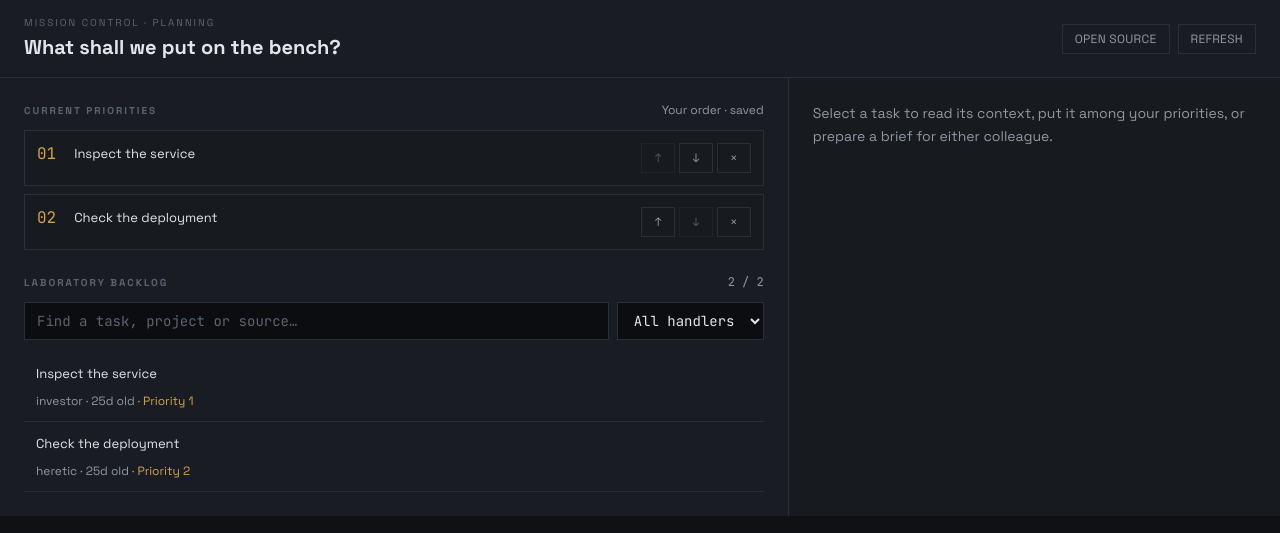
Test: Mission Control planning › reorders and removes persisted priorities, retaining the selected task across a refresh
Click the 1st button with class "backlog-row" at (96, 374), box 24,352 -> 764,422
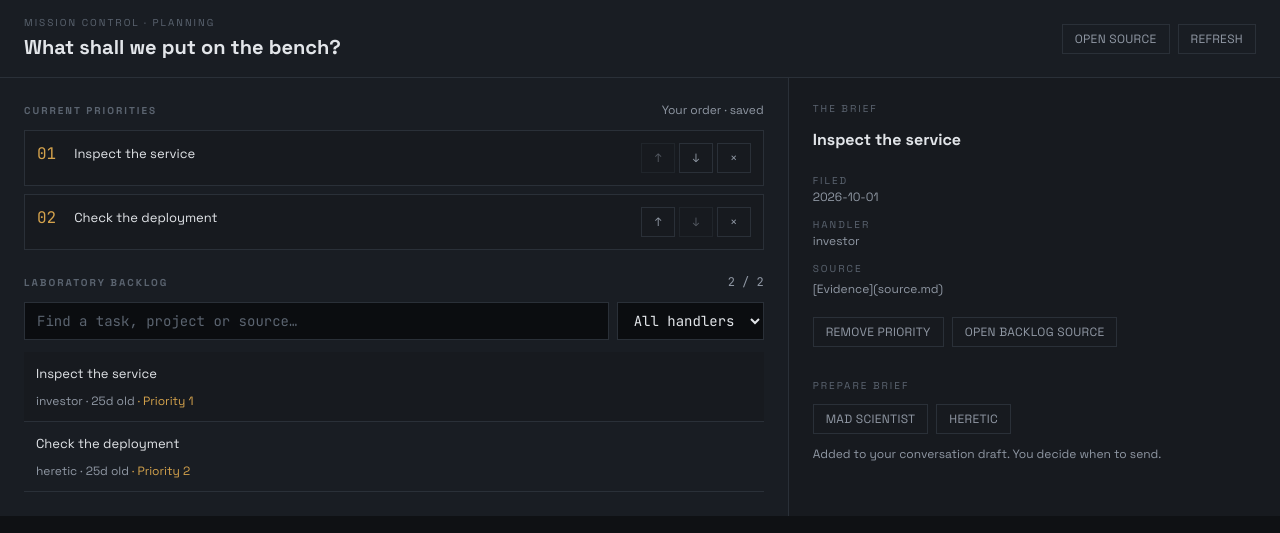
Expected: the button named "Move priority up" is disabled, 641,143 -> 675,173
Click the button named "Move priority down" at (696, 158), box 679,143 -> 713,173
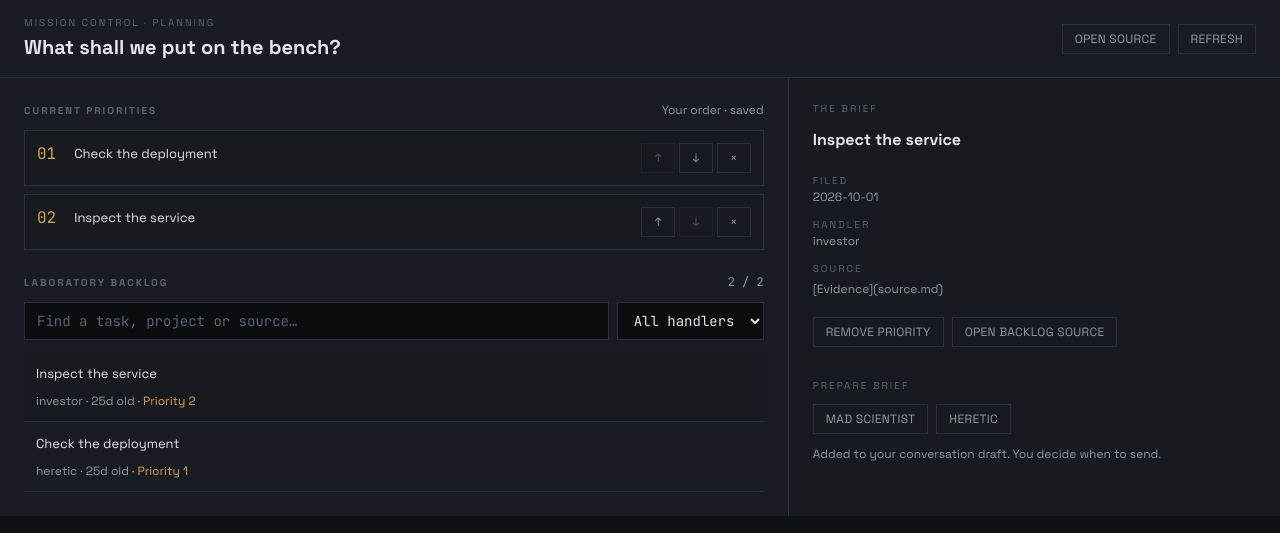
Click the button named "Move priority up" at (658, 222), box 641,207 -> 675,237
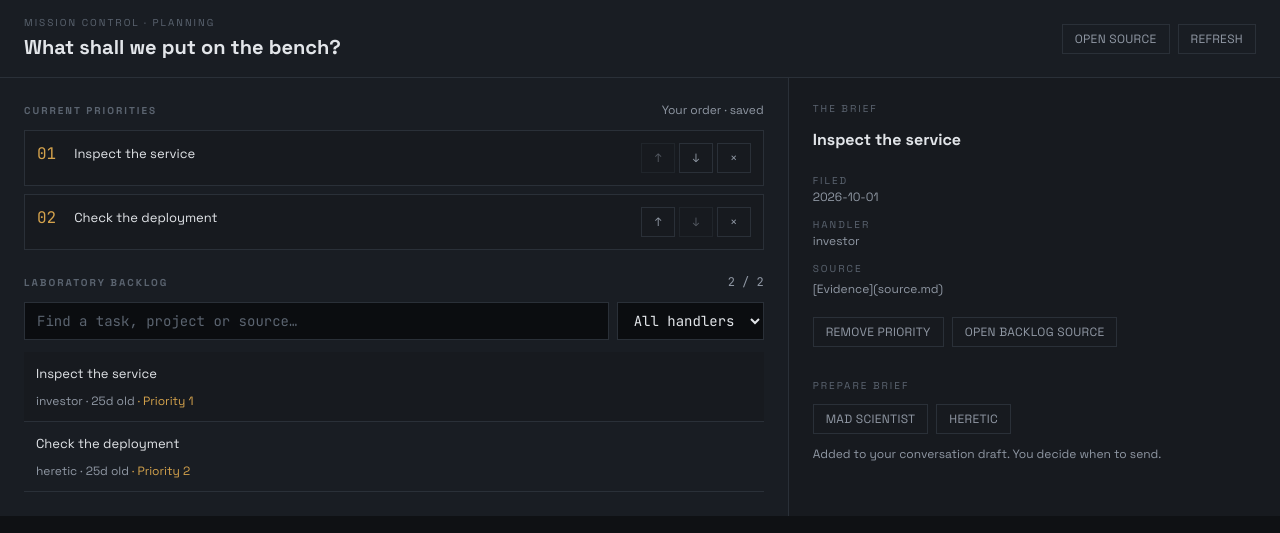
Click the button named "Remove priority" at (734, 158), box 717,143 -> 751,173
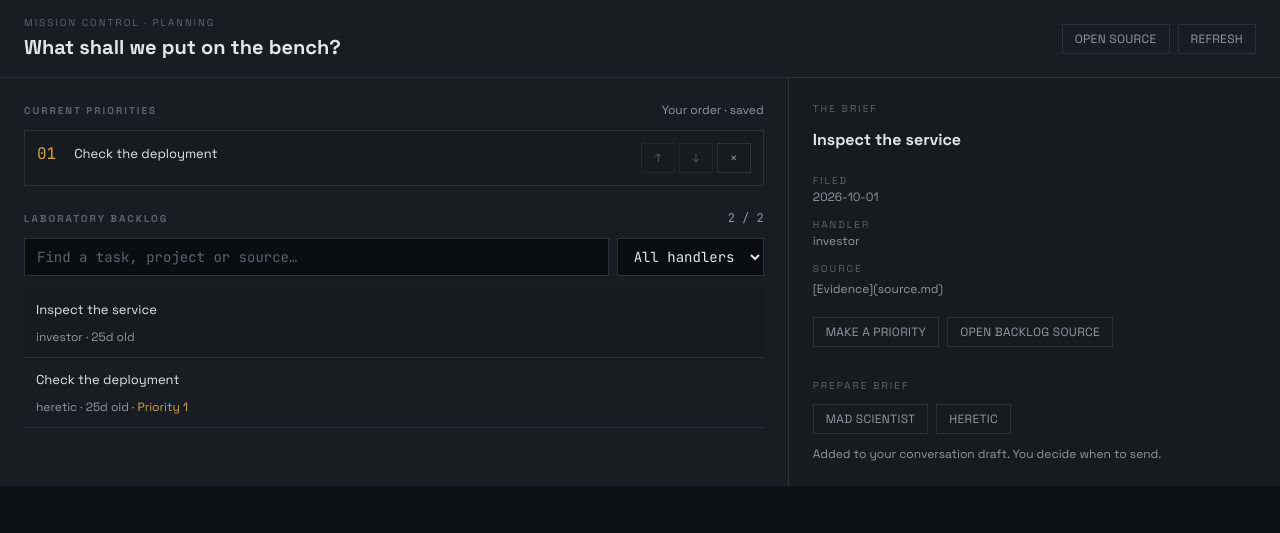
Select "heretic" in the dropdown named "Filter by handler" at (690, 257), box 617,238 -> 764,276
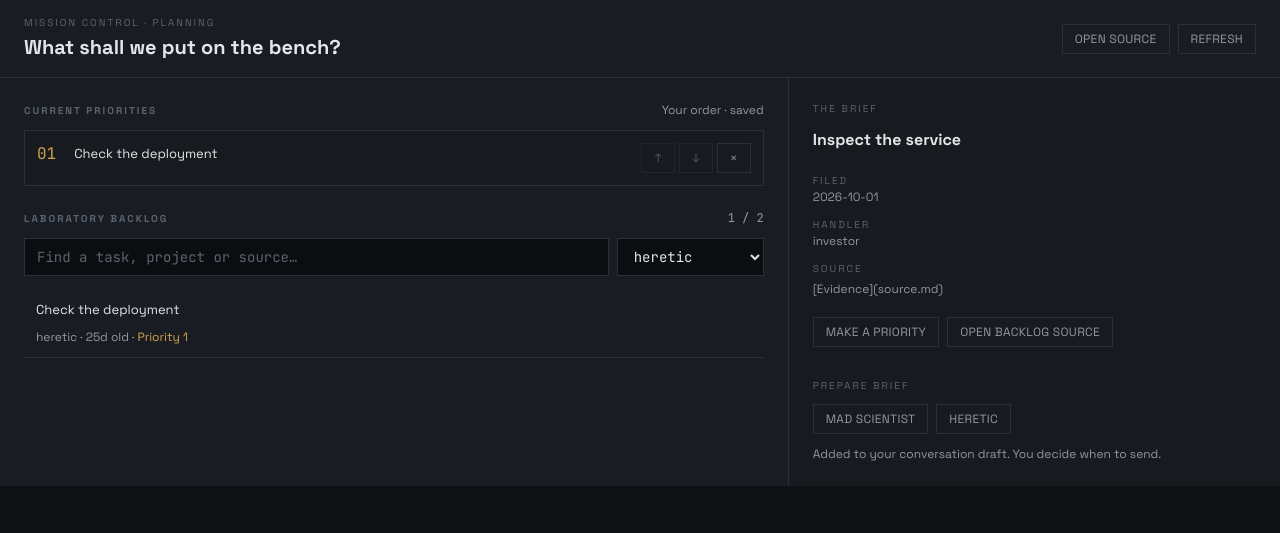
Expected: the button with class "backlog-row" shows "Check the deployment", 24,288 -> 764,358
Result: the number of buttons with class "backlog-row" is 1 at 24,288 -> 764,358
Click the button "Refresh" at (1217, 38), box 1178,24 -> 1256,54
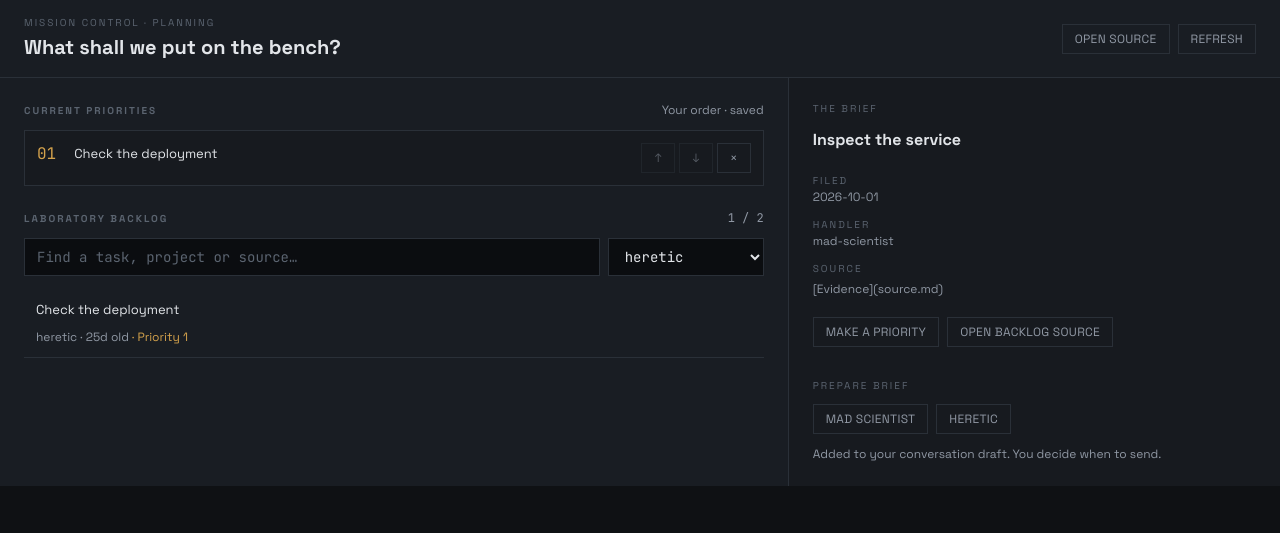
Result: the element that starts with "The brief" shows "mad-scientist" at 813,233 -> 894,249
